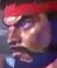ryu: (4, 0, 52, 65)
